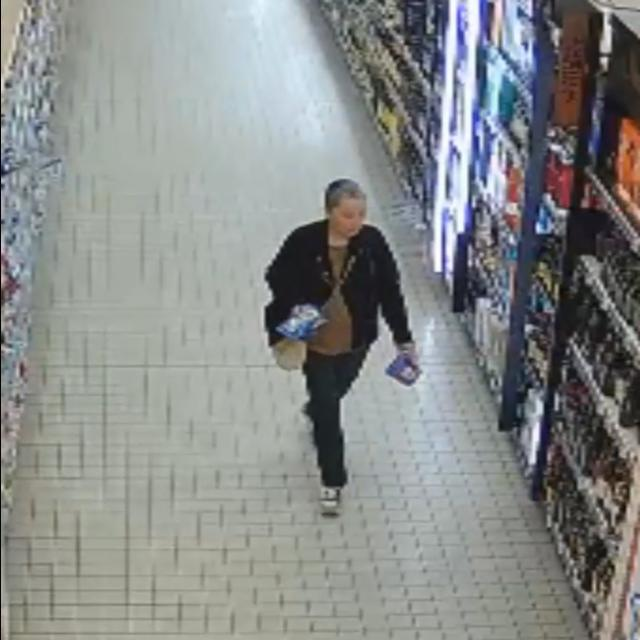article: (277, 301, 329, 339), (387, 354, 423, 387)
bags: (273, 339, 307, 371)
hands: (397, 343, 421, 370)
person: (266, 179, 415, 515)
